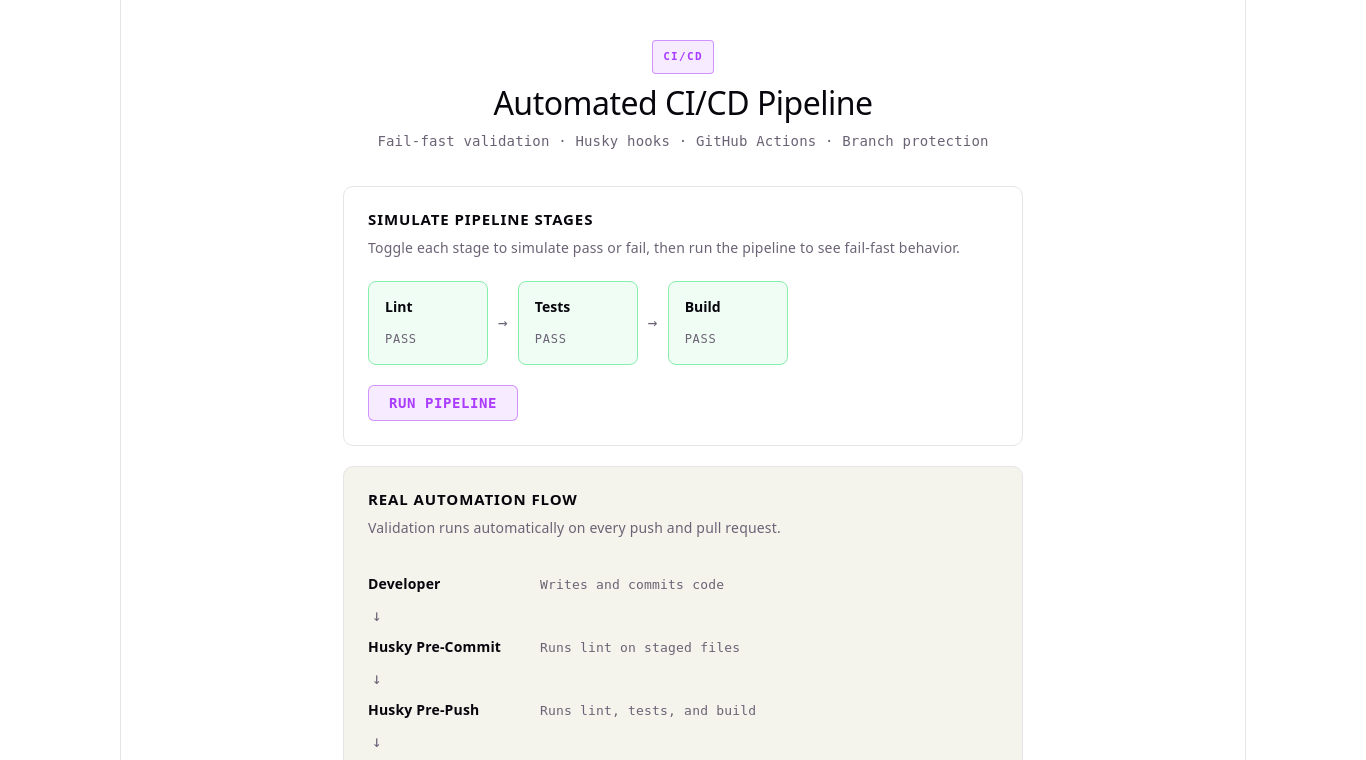
Test: App › shows a passing pipeline result
The image size is (1366, 760).
Click the button "Run Pipeline" at (443, 403), box [368,385,518,421]
(page scrolled)
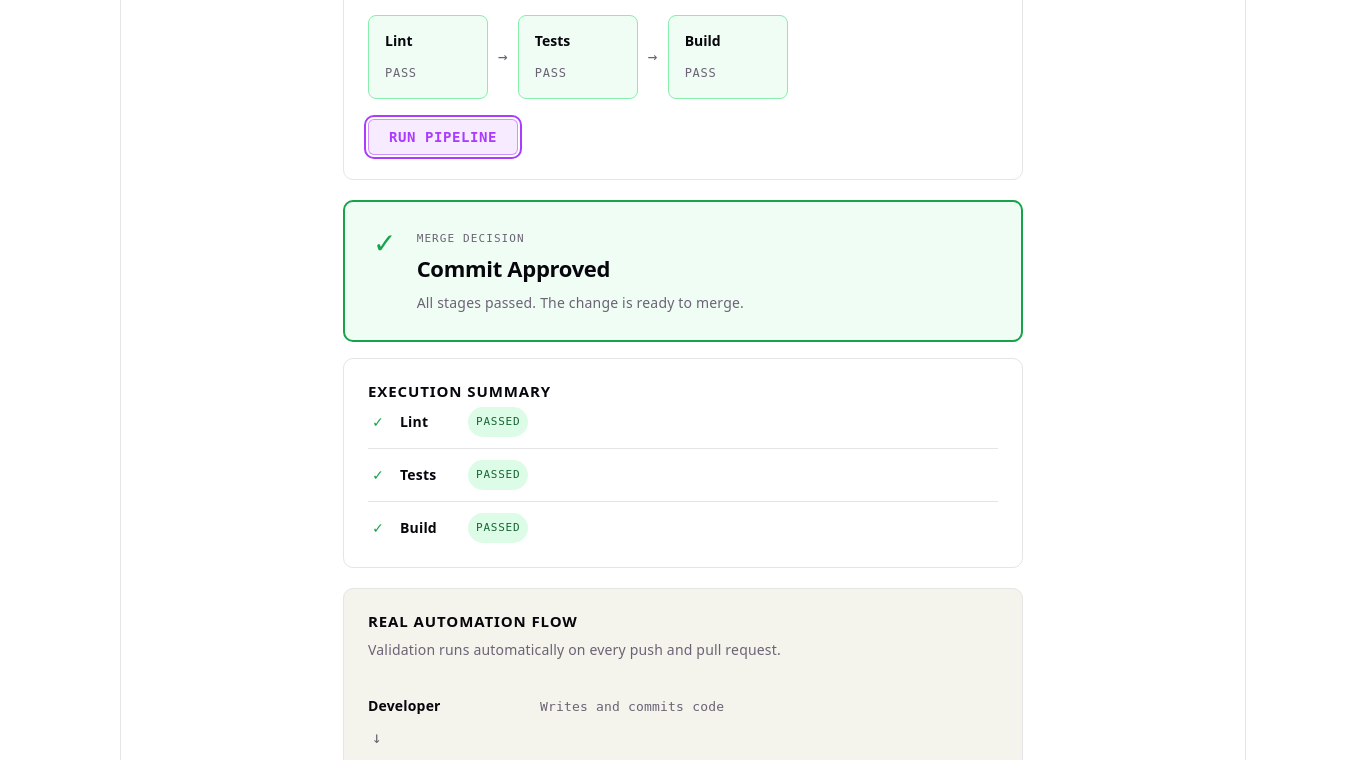
Expected: the element named "Pipeline results" does not show "skipped", [343,200,1023,568]
Expected: the element named "Pipeline results" shows "passed", [476,415,520,428]
